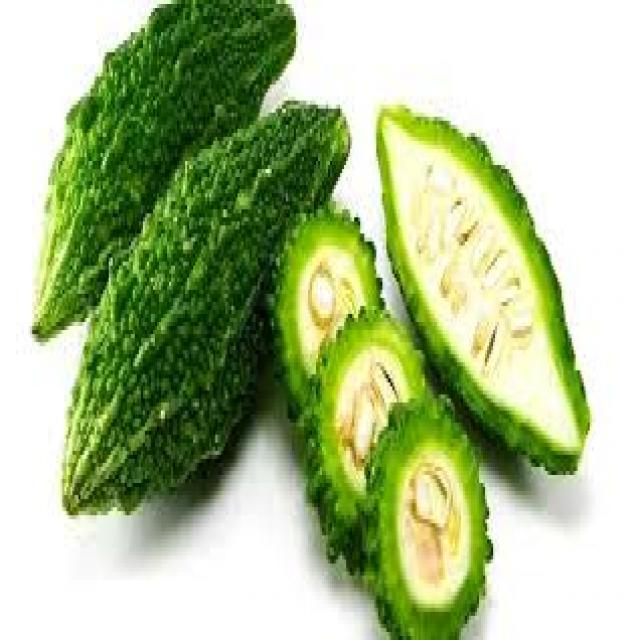organic waste: (56, 93, 348, 515), (32, 0, 296, 334), (376, 101, 590, 479), (296, 298, 427, 580), (364, 394, 493, 636), (270, 209, 382, 411)
